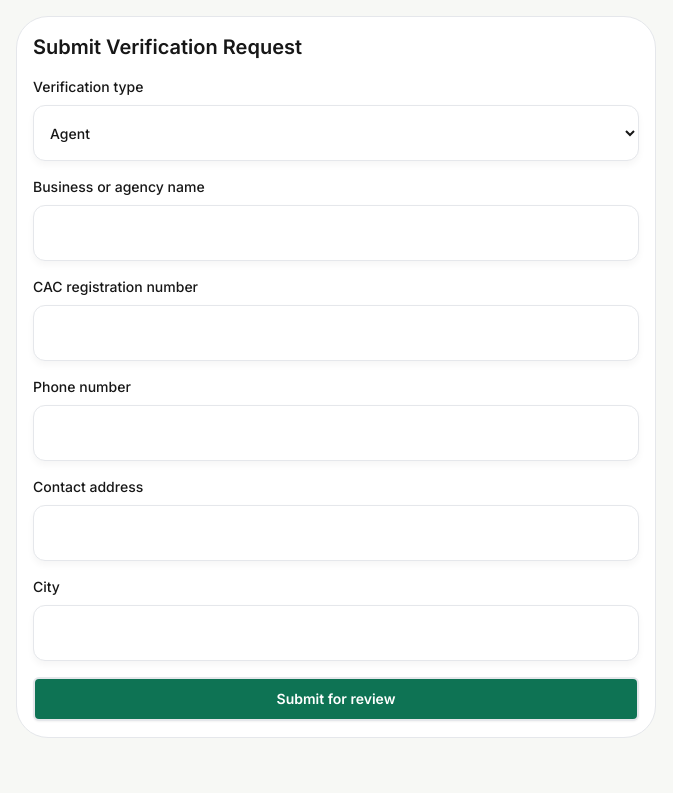
Test case: Verification submission messages › shows an accessible genuine failure with the appropriate message 0
Type "08012345678" into the field labelled "Phone number" at [336, 433], box [33,405,639,461]
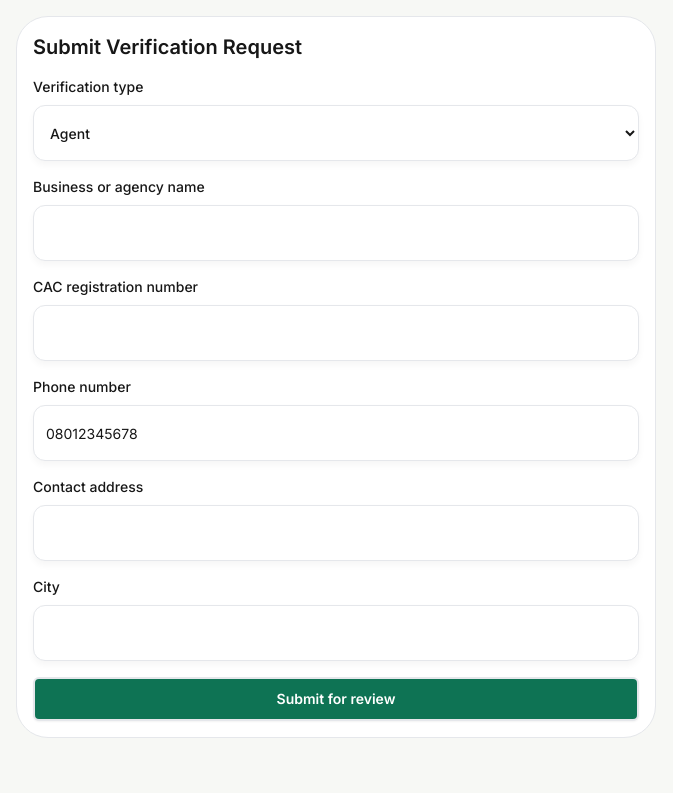
Type "  Admiralty Way  " into the field labelled "Contact address" at [336, 533], box [33,505,639,561]
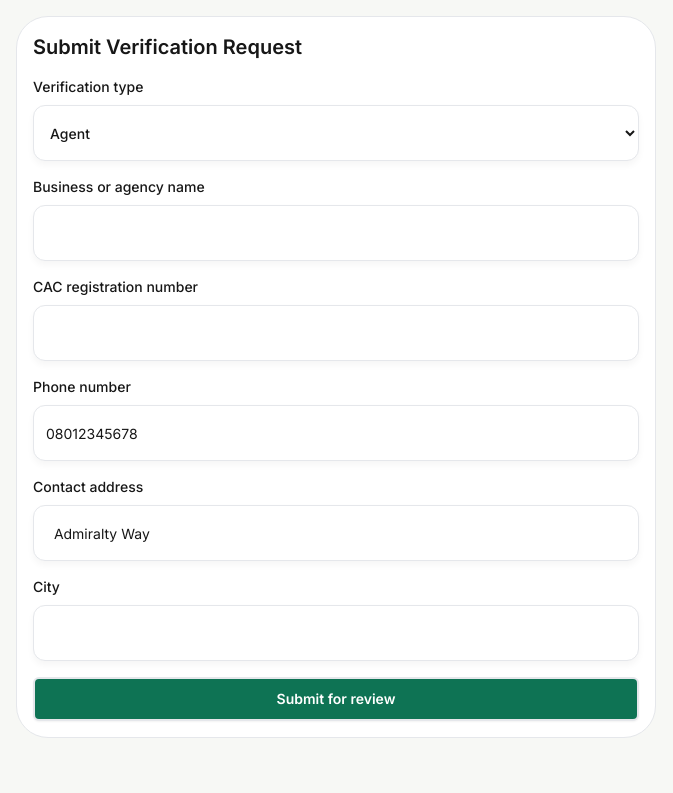
Type "  Lagos  " into the field labelled "City" at [336, 633], box [33,605,639,661]
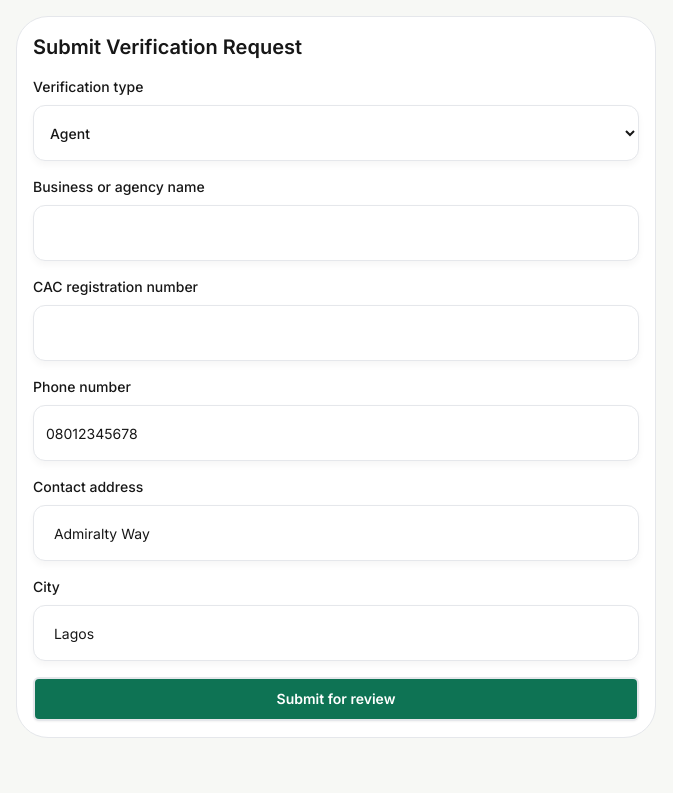
Type "Synthetic Agency" into the field labelled "Business or agency name" at [336, 233], box [33,205,639,261]
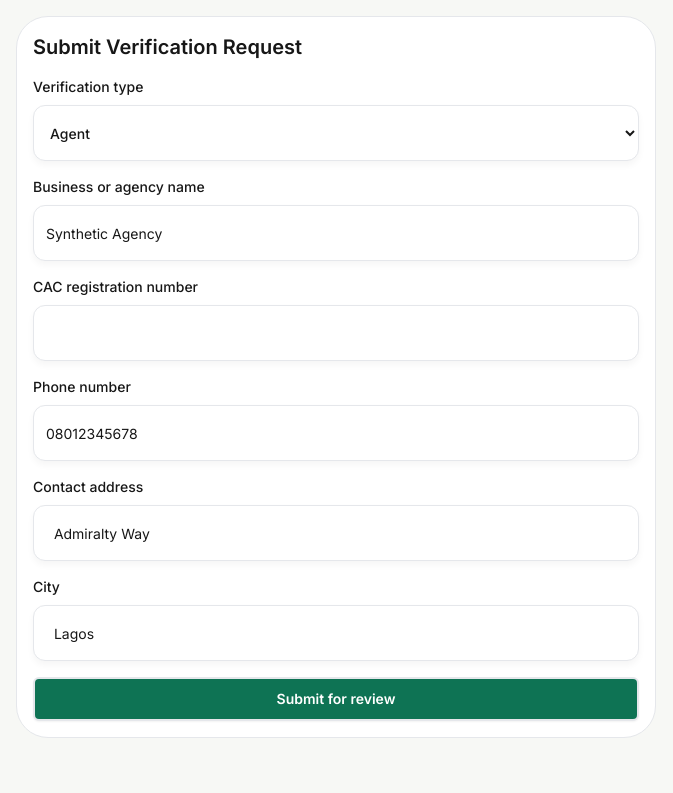
Type "SYNTHETIC-CAC" into the field labelled "CAC registration number" at [336, 333], box [33,305,639,361]
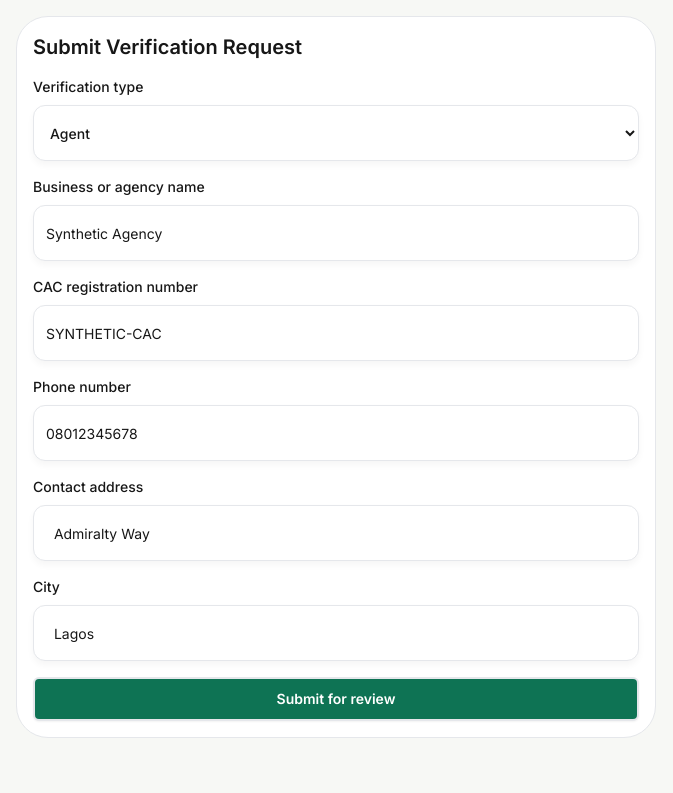
Submit the form named "Submit for review"
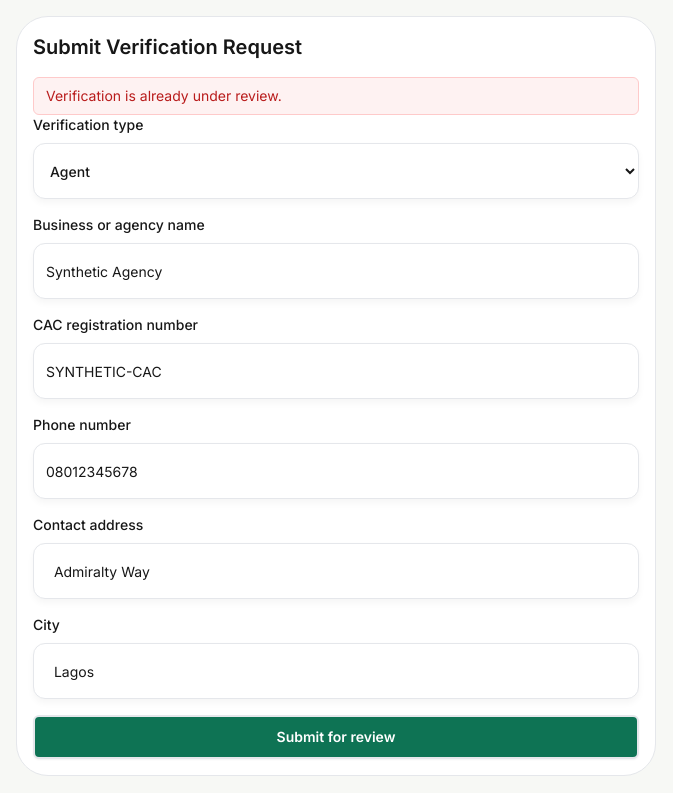
Expected: the button "Submit for review" is enabled, [33,715,639,759]
Now the message reads "Verification is already under review.", box [46,87,282,104]
